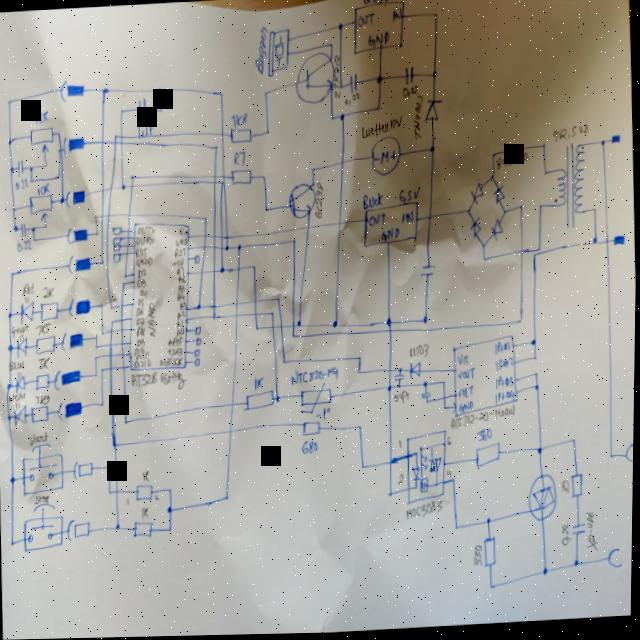capacitor: (419, 260, 437, 280), (401, 65, 414, 87), (571, 522, 586, 540), (136, 96, 146, 120), (347, 72, 357, 94), (15, 158, 24, 174), (18, 220, 27, 236), (392, 372, 406, 382), (420, 387, 430, 398)
crossover: (111, 133, 117, 144), (228, 399, 234, 407), (603, 239, 609, 247), (518, 248, 524, 256), (388, 458, 394, 466), (233, 298, 239, 306), (98, 137, 104, 145), (123, 248, 129, 256), (338, 159, 344, 166), (335, 219, 341, 226), (218, 131, 223, 139), (118, 316, 124, 322), (425, 214, 431, 220), (387, 368, 393, 374), (304, 225, 310, 231), (198, 269, 204, 275), (210, 268, 216, 274), (253, 296, 257, 305), (290, 323, 296, 329), (120, 363, 126, 369), (107, 184, 113, 190), (387, 328, 392, 334), (211, 172, 216, 178), (234, 311, 239, 317), (210, 302, 215, 308), (270, 324, 275, 330), (228, 428, 233, 434), (119, 339, 124, 345), (118, 139, 123, 145), (129, 182, 134, 188), (105, 211, 110, 217), (224, 233, 228, 240), (280, 323, 284, 330), (110, 326, 114, 333), (108, 340, 112, 347), (107, 363, 111, 370), (442, 395, 446, 401), (221, 172, 225, 178), (211, 179, 215, 185), (219, 245, 223, 251), (202, 232, 206, 238), (202, 243, 206, 249), (235, 266, 239, 272), (119, 302, 123, 308), (119, 325, 123, 331), (120, 351, 124, 357), (118, 132, 122, 138), (100, 185, 104, 191), (126, 211, 130, 217), (99, 212, 103, 218), (126, 226, 130, 232), (125, 233, 129, 239), (252, 310, 256, 315), (218, 235, 222, 239), (212, 244, 216, 248), (108, 352, 112, 356), (115, 488, 119, 492), (58, 147, 61, 151), (125, 242, 128, 246)
diode: (16, 292, 34, 323), (422, 96, 440, 123), (12, 330, 29, 358), (12, 399, 27, 427), (468, 181, 484, 206), (488, 217, 504, 242), (405, 360, 425, 379), (13, 369, 28, 392), (467, 217, 482, 239), (490, 183, 505, 205)
junction: (428, 69, 437, 79), (99, 85, 107, 95), (590, 237, 598, 247), (9, 473, 16, 483), (331, 319, 338, 329), (374, 74, 381, 84), (421, 315, 428, 324), (386, 317, 392, 327), (480, 240, 486, 250), (261, 205, 268, 213), (542, 568, 549, 576), (573, 560, 580, 568), (7, 164, 14, 172), (6, 342, 13, 350), (428, 145, 434, 154), (537, 446, 543, 455), (485, 517, 491, 525), (114, 522, 120, 530), (155, 85, 161, 93), (530, 339, 536, 347), (235, 242, 241, 250), (195, 302, 201, 310), (211, 143, 217, 151), (570, 437, 576, 445), (489, 583, 495, 591), (224, 492, 230, 500), (599, 139, 605, 147), (532, 355, 538, 363), (608, 452, 614, 460), (11, 223, 17, 231), (336, 22, 342, 30), (167, 504, 173, 512), (532, 370, 538, 378), (328, 114, 334, 122), (218, 265, 224, 273), (98, 299, 104, 307), (8, 268, 14, 276), (6, 135, 12, 143), (223, 243, 229, 251), (210, 312, 216, 320), (98, 365, 104, 373), (54, 171, 60, 179), (110, 439, 116, 447), (107, 302, 113, 310), (488, 173, 494, 181), (274, 395, 280, 403), (533, 384, 539, 392), (375, 104, 381, 112), (339, 112, 345, 120), (250, 262, 256, 270), (275, 294, 281, 302), (296, 318, 302, 326), (6, 379, 12, 387), (387, 490, 393, 498), (356, 354, 362, 362), (540, 141, 545, 150), (6, 311, 13, 317), (9, 538, 14, 546), (99, 399, 104, 407), (541, 169, 546, 177), (517, 203, 522, 211), (119, 182, 124, 190), (10, 203, 15, 211), (123, 417, 128, 425), (531, 253, 536, 261), (290, 237, 296, 243), (356, 424, 362, 430), (92, 371, 98, 377), (449, 477, 455, 483), (93, 341, 99, 347), (92, 353, 98, 359), (290, 332, 296, 338), (269, 309, 275, 315), (28, 164, 34, 170), (27, 176, 33, 182), (58, 195, 64, 201), (30, 224, 36, 230), (43, 160, 49, 166), (309, 165, 314, 172), (281, 357, 286, 364), (537, 203, 542, 210), (254, 324, 259, 331), (100, 257, 104, 265), (56, 127, 60, 135), (167, 525, 172, 531), (167, 485, 172, 491), (217, 90, 222, 96), (5, 97, 10, 103), (590, 208, 595, 214), (431, 11, 436, 17), (117, 106, 122, 112), (517, 318, 522, 324), (260, 173, 265, 179), (453, 524, 458, 530), (261, 90, 266, 96), (107, 488, 112, 494), (481, 256, 486, 262), (356, 369, 361, 375), (100, 329, 105, 335), (128, 173, 133, 179), (327, 42, 332, 48), (31, 236, 36, 242), (107, 463, 111, 469), (264, 128, 268, 134), (360, 464, 364, 470), (157, 106, 161, 112), (202, 214, 206, 220), (442, 405, 446, 411), (489, 152, 493, 158), (536, 247, 540, 253), (93, 333, 97, 339), (7, 413, 11, 419), (123, 271, 127, 277), (121, 280, 125, 286), (94, 229, 98, 235), (93, 213, 97, 219), (501, 209, 505, 215), (465, 208, 469, 214), (220, 179, 224, 185), (42, 222, 47, 226)
resistor: (26, 190, 54, 221), (473, 441, 502, 469), (243, 388, 274, 412), (28, 125, 53, 152), (228, 167, 252, 188), (134, 479, 155, 503), (38, 298, 60, 320), (483, 536, 497, 568), (131, 516, 152, 537), (34, 333, 55, 353), (228, 126, 252, 143), (28, 403, 49, 422), (570, 473, 584, 499), (301, 418, 321, 436)
switch: (20, 440, 65, 494), (21, 501, 65, 549)
terminal: (606, 547, 623, 570), (621, 442, 635, 464), (612, 236, 627, 249), (608, 134, 621, 144)
text: (450, 404, 514, 428), (129, 368, 188, 391), (359, 113, 401, 139), (287, 365, 338, 385), (404, 499, 445, 522), (250, 25, 267, 74), (583, 506, 600, 553), (549, 123, 588, 142), (408, 94, 423, 140), (130, 114, 155, 140), (493, 152, 529, 169), (397, 185, 420, 204), (365, 31, 389, 49), (312, 181, 323, 219), (490, 373, 514, 390), (27, 427, 51, 444), (228, 108, 249, 127), (146, 299, 157, 335), (380, 225, 402, 243), (360, 192, 383, 209), (454, 366, 476, 383), (231, 145, 246, 169), (300, 438, 321, 455), (406, 343, 428, 358), (330, 54, 340, 86), (159, 355, 183, 368), (472, 543, 484, 568), (32, 107, 49, 124), (356, 11, 373, 28), (366, 211, 384, 227), (15, 236, 33, 252), (491, 390, 513, 403), (495, 356, 513, 371), (490, 342, 510, 355), (392, 388, 408, 404), (455, 352, 472, 367), (398, 85, 417, 98), (560, 524, 571, 546), (40, 282, 55, 298), (34, 491, 50, 506), (456, 384, 472, 399), (135, 222, 155, 234), (134, 233, 154, 245), (34, 390, 52, 403), (9, 356, 27, 369), (35, 320, 53, 333), (457, 400, 475, 413), (476, 427, 491, 442), (343, 93, 360, 106), (559, 476, 569, 498), (8, 388, 26, 400), (11, 321, 29, 333), (134, 254, 152, 266), (13, 175, 29, 188), (399, 211, 413, 225), (316, 406, 330, 420), (140, 468, 152, 484), (34, 183, 51, 194), (165, 335, 182, 346), (166, 346, 183, 357), (37, 355, 50, 369), (133, 244, 148, 256), (132, 358, 150, 368), (21, 280, 33, 294), (359, 0, 392, 5), (391, 5, 400, 23), (253, 375, 263, 390), (141, 503, 150, 519), (173, 246, 185, 258), (178, 224, 188, 236), (133, 344, 145, 353), (134, 351, 148, 358), (396, 471, 403, 485), (175, 237, 187, 245), (175, 265, 184, 275), (135, 324, 144, 334), (171, 256, 182, 264), (176, 290, 184, 300), (178, 300, 186, 310), (136, 268, 146, 276), (135, 278, 145, 286), (135, 305, 143, 315), (136, 295, 144, 304), (135, 315, 143, 324), (445, 434, 451, 446), (177, 275, 185, 283), (176, 283, 184, 291), (175, 310, 183, 318), (176, 327, 184, 335), (139, 288, 147, 296), (136, 337, 144, 345), (446, 469, 452, 477), (176, 320, 184, 326), (397, 437, 401, 449), (154, 494, 160, 500), (126, 496, 130, 504)
transformer: (550, 138, 588, 231)
transistor: (292, 51, 334, 104), (285, 181, 316, 220)
